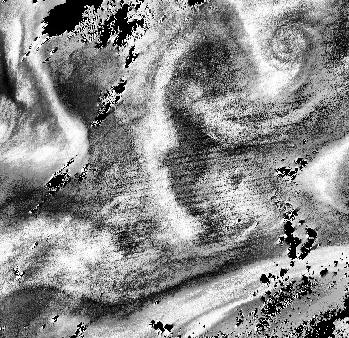CE: (260, 14, 324, 74)
